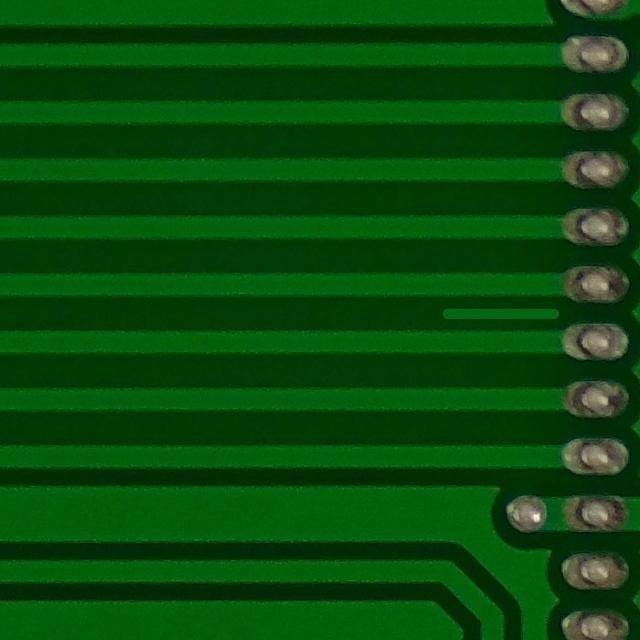spurious_copper: (437, 292, 563, 336)
